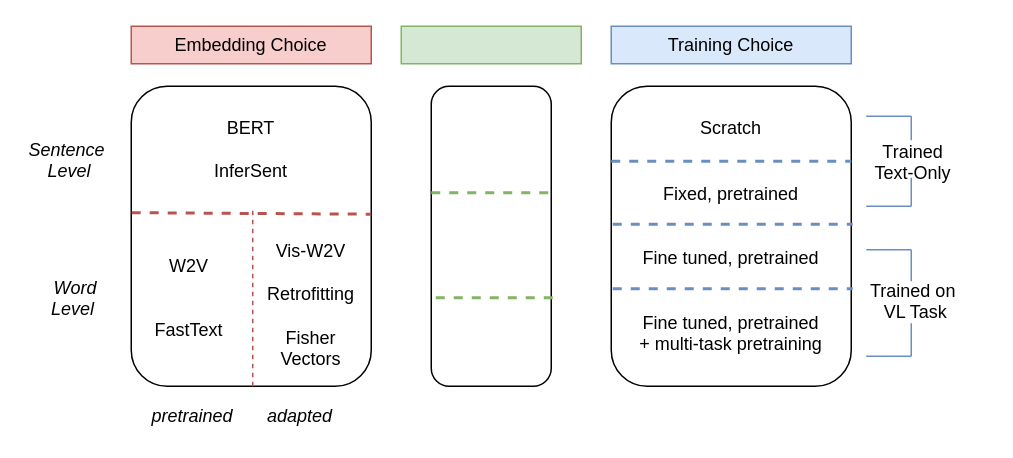
Image size: 1013x458. Some labels were removed from this diagram. The shapes that lost their labels are listed below. From the top down, each one's centre as x and y in pixels, then its label:
the point at 490,44: Model Choice
the point at 490,235: Average Embedding Self Attention LSTM
